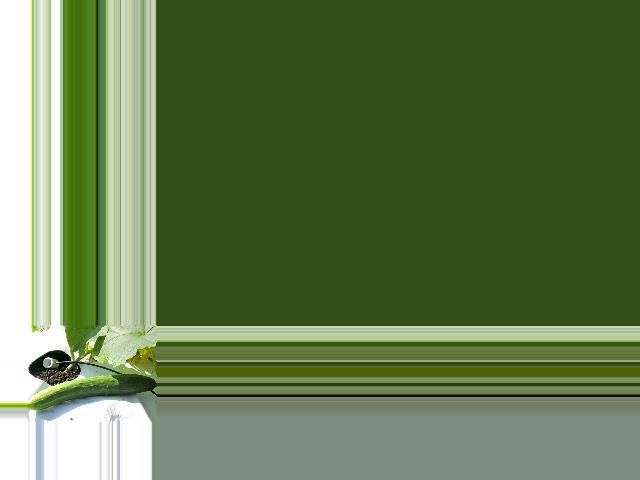cucumber: (25, 374, 156, 410)
